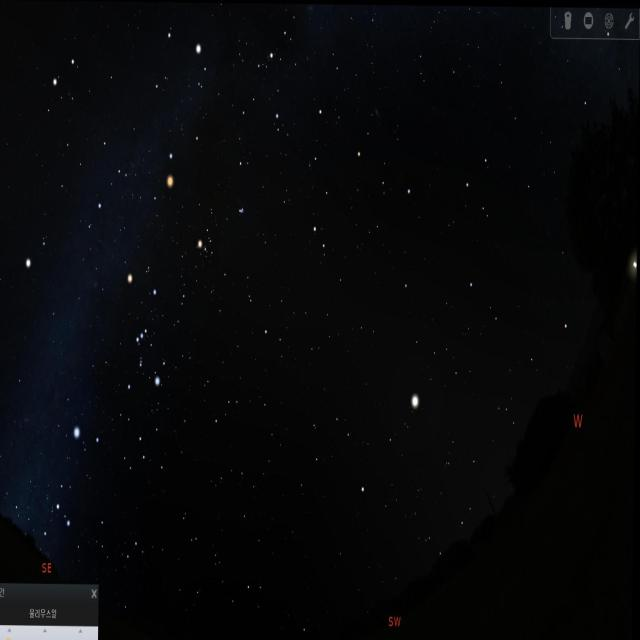canis_major: (54, 422, 107, 542)
canis_minor: (20, 221, 59, 288)
gemini: (48, 52, 140, 204)
orion: (118, 260, 167, 394)
pleiades: (237, 202, 249, 224)
taurus: (194, 168, 257, 283)
